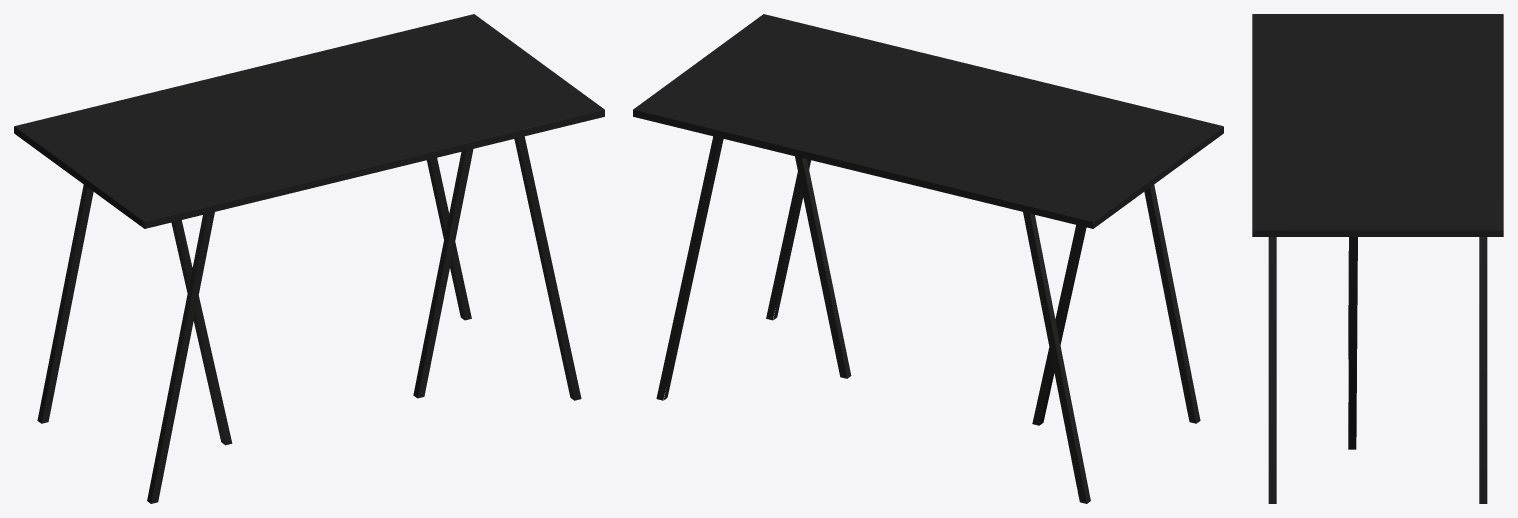
Rendered from looptable.gltf.
3 views of the same model, side by side, from view 1: azimuth 30°, elevation 25°; view 2: azimuth 150°, elevation 25°; view 3: azimuth 270°, elevation 25° (orthographic). The views are drawn at different scales.
Visible parts, largest first — view 1: Mesh; view 2: Mesh; view 3: Mesh.
Part boxes in pixels (left/top/right/bottom): Mesh: left=14, top=14, right=604, bottom=503; Mesh: left=633, top=14, right=1223, bottom=503; Mesh: left=1252, top=14, right=1503, bottom=503.
Size of the model in its own units: 1.6 by 0.9682 by 0.7851.
1 material, 1 textured.
